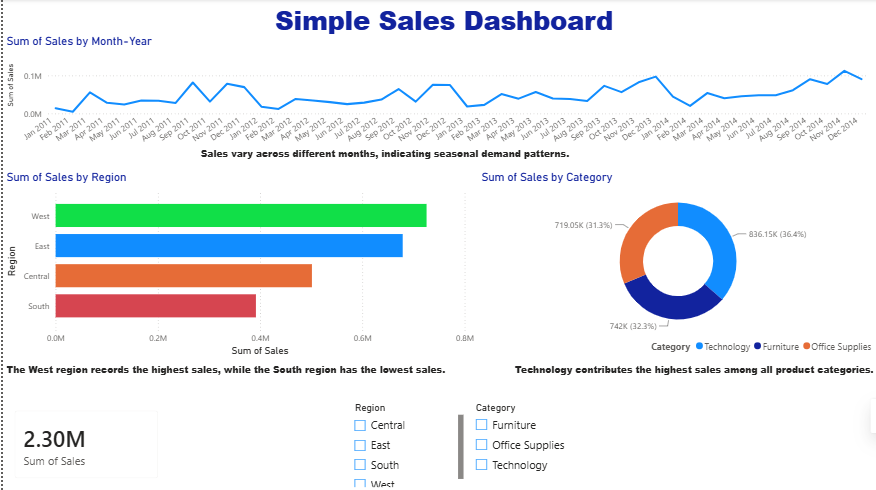

This screenshot's page, from the dashboard's own definition file:
{"tool":"powerbi","page":{"name":"Sales Dashboard","canvas":[1280,720],"ordinal":0},"visuals":[{"type":"textbox","box":[9.6,0,1270.4,64.3],"z":0},{"type":"lineChart","fields":{"Category":["Superstore.Month-Year"],"Y":["Sum(Superstore.Sales)"]},"box":[0,51.8,1271.4,171.4],"z":1000},{"type":"clusteredBarChart","fields":{"Category":["Superstore.Region"],"Y":["Sum(Superstore.Sales)"]},"box":[0,250,694.6,276.8],"z":2000},{"type":"donutChart","fields":{"Y":["Sum(Superstore.Sales)"],"Category":["Superstore.Category"]},"box":[694.6,250,585.7,276.8],"z":3000},{"type":"slicer","fields":{"Values":["Superstore.Region"]},"box":[501.8,585.7,176.8,133.9],"z":4000},{"type":"slicer","fields":{"Values":["Superstore.Category"]},"box":[678.6,585.7,176.8,133.9],"z":5000},{"type":"cardVisual","fields":{"Data":["Sum(Superstore.Sales)"]},"box":[0,585.7,244.6,133.9],"z":6000},{"type":"textbox","box":[0,210,1118,40],"z":7000},{"type":"textbox","box":[0,526.8,678.6,58.9],"z":8000},{"type":"textbox","box":[678.6,526.8,600,58.9],"z":9000}]}

Visuals, with their boxes in screenshot pixels (x1, y1, x2, y2), scaled from the page's 1280x720 canvas onto the 876x490 screenshot:
textbox: bbox(7, 0, 875, 44)
lineChart - Superstore.Month-Year x Sum(Superstore.Sales): bbox(0, 35, 870, 152)
clusteredBarChart - Superstore.Region x Sum(Superstore.Sales): bbox(0, 170, 475, 359)
donutChart - Sum(Superstore.Sales) x Superstore.Category: bbox(475, 170, 875, 359)
slicer - Superstore.Region: bbox(343, 399, 464, 489)
slicer - Superstore.Category: bbox(464, 399, 585, 489)
cardVisual - Sum(Superstore.Sales): bbox(0, 399, 167, 489)
textbox: bbox(0, 143, 765, 170)
textbox: bbox(0, 359, 464, 399)
textbox: bbox(464, 359, 875, 399)
